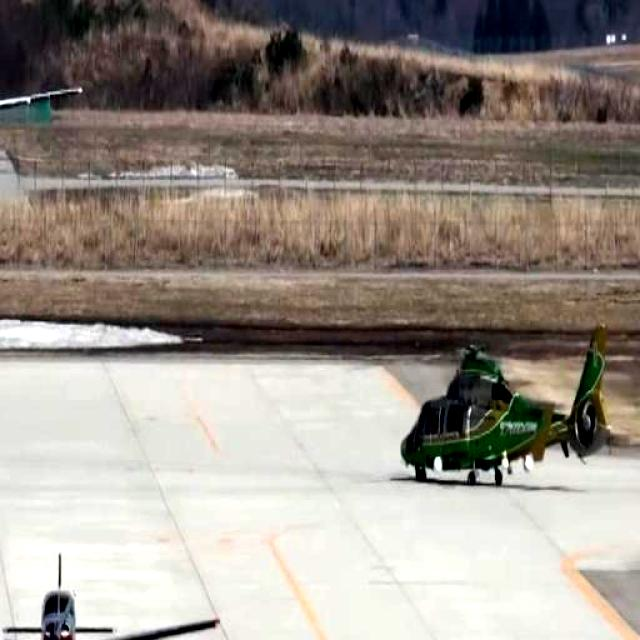drone: (399, 341, 610, 491)
